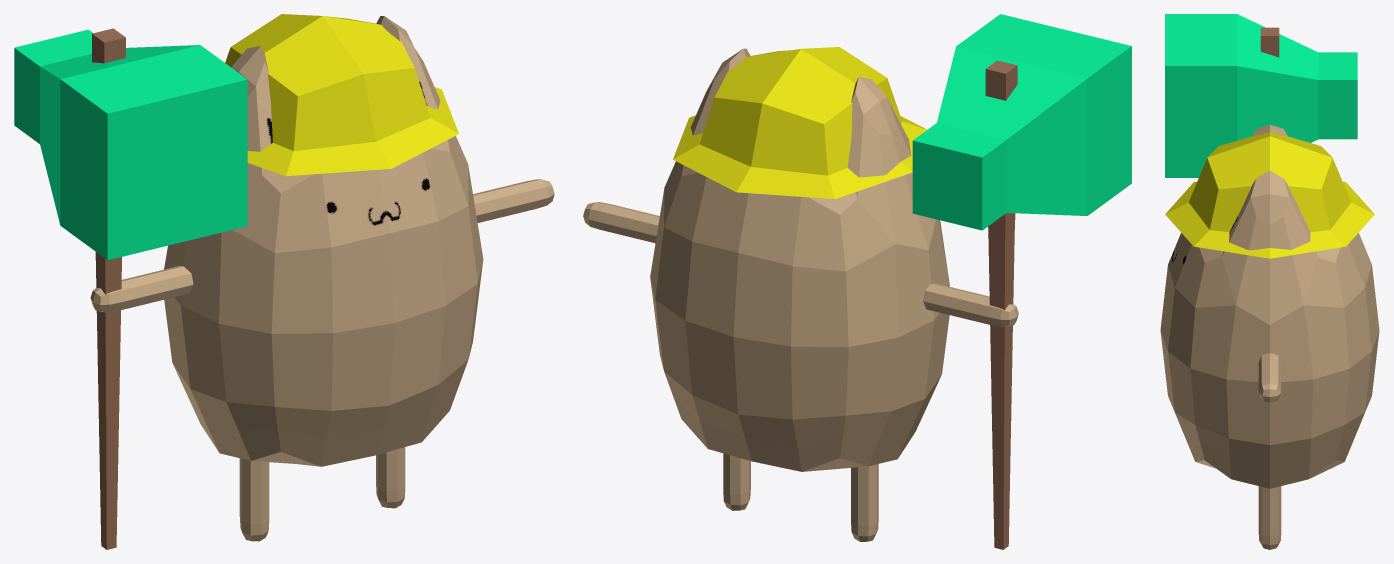
File: worker.glb
3 views of the same model, side by side, from view 1: azimuth 30°, elevation 25°; view 2: azimuth 150°, elevation 25°; view 3: azimuth 270°, elevation 25° (orthographic). The views are drawn at different scales.
Visible parts, largest first — view 1: Cube, Cube.002, Helmet, Plane, Cube.001; view 2: Cube, Cube.002, Helmet, Plane, Cube.001; view 3: Cube, Cube.002, Helmet, Plane, Cube.001.
Boxes of the visible parts, x1,y1,x2,y2 form: Cube: (164, 16, 483, 466); Cube.002: (14, 29, 247, 260); Helmet: (225, 14, 458, 176); Plane: (90, 179, 554, 541); Cube.001: (92, 28, 125, 549); Cube: (650, 48, 949, 471); Cube.002: (912, 14, 1131, 230); Helmet: (673, 47, 926, 199); Plane: (583, 202, 1018, 541); Cube.001: (985, 60, 1017, 549); Cube: (1160, 124, 1379, 488); Cube.002: (1165, 14, 1357, 177); Helmet: (1165, 132, 1374, 258); Plane: (1258, 353, 1281, 549); Cube.001: (1260, 27, 1279, 57).
Size of the model in its own units: 4.4 by 4.42 by 2.13.
4 materials, 1 textured.
